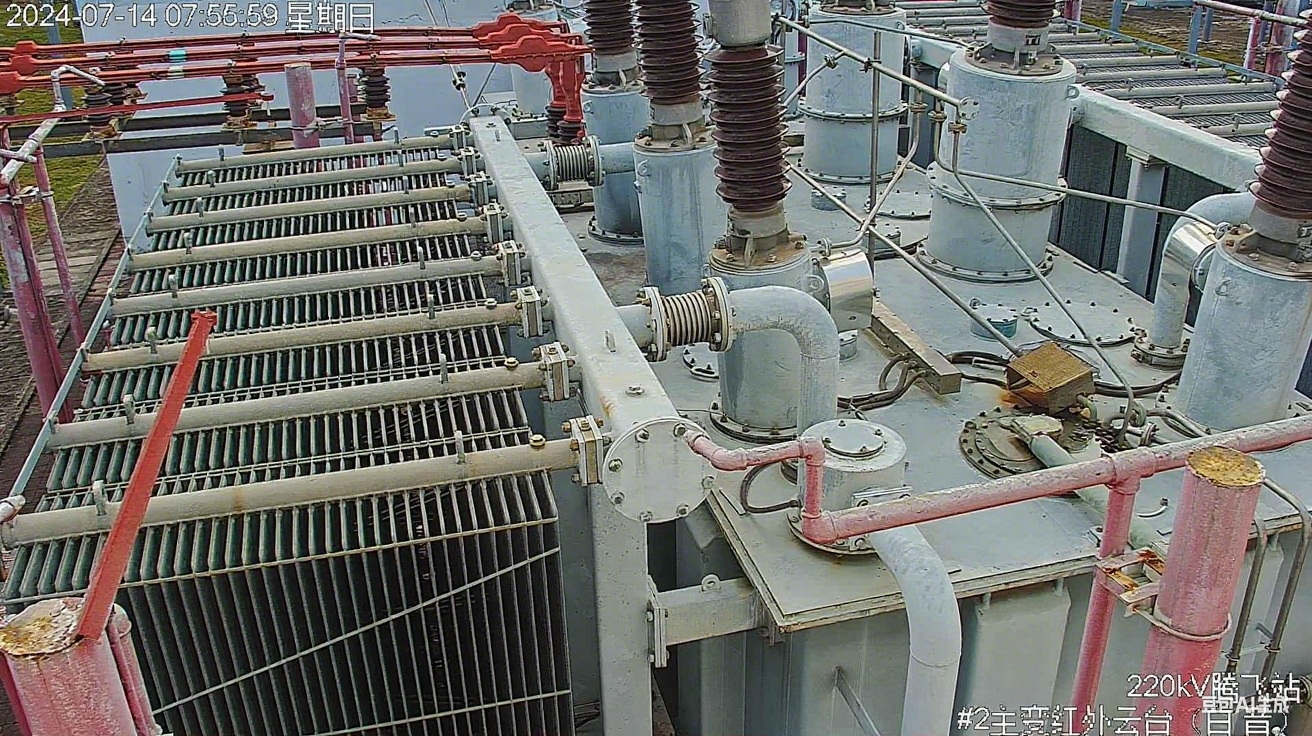HTX: (996, 339, 1093, 414), (1, 611, 87, 664), (1185, 444, 1263, 492), (1107, 545, 1168, 592), (774, 613, 855, 637), (221, 113, 261, 130), (82, 123, 119, 140), (361, 105, 396, 121), (599, 394, 619, 421)
